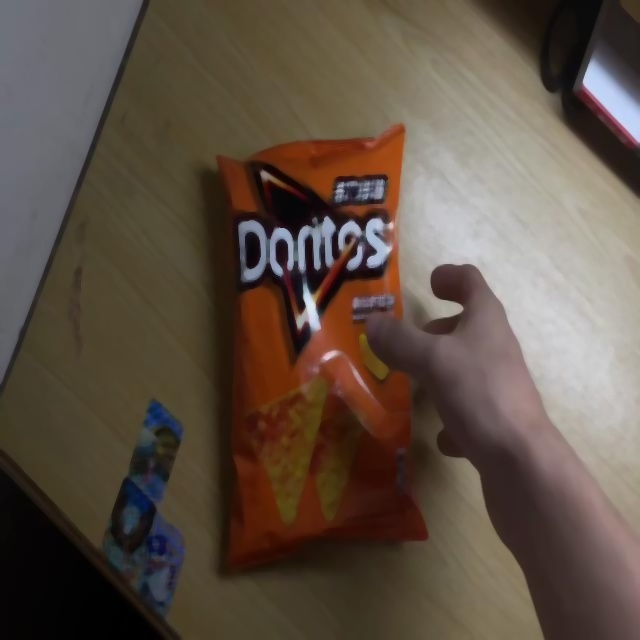Doritos: (212, 120, 430, 578)
